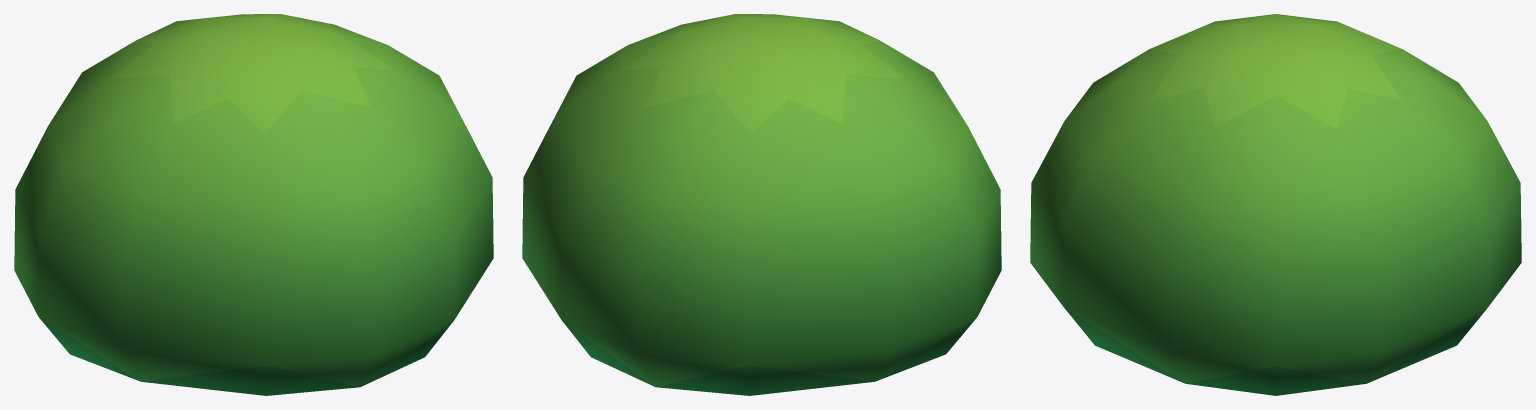
The model's file is Bush_1_B_Color1.glb.
3 renders of one model, left to right at view 1: azimuth 30°, elevation 25°; view 2: azimuth 150°, elevation 25°; view 3: azimuth 270°, elevation 25°, orthographic.
Parts seen in each view (by area): view 1: Bush_1_B_Color1; view 2: Bush_1_B_Color1; view 3: Bush_1_B_Color1.
Boxes of the visible parts, box(x1,y1,x2,y2) form: Bush_1_B_Color1: box(14, 14, 493, 395); Bush_1_B_Color1: box(522, 14, 1001, 395); Bush_1_B_Color1: box(1030, 14, 1521, 395).
Bounding box in the file's own units: 0.7224 × 0.4841 × 0.7224.
Materials: 1 (1 with a texture image).
